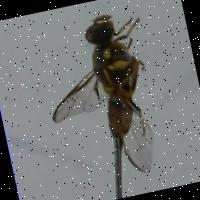Oriental-fruit-fly: (22, 0, 195, 195)
